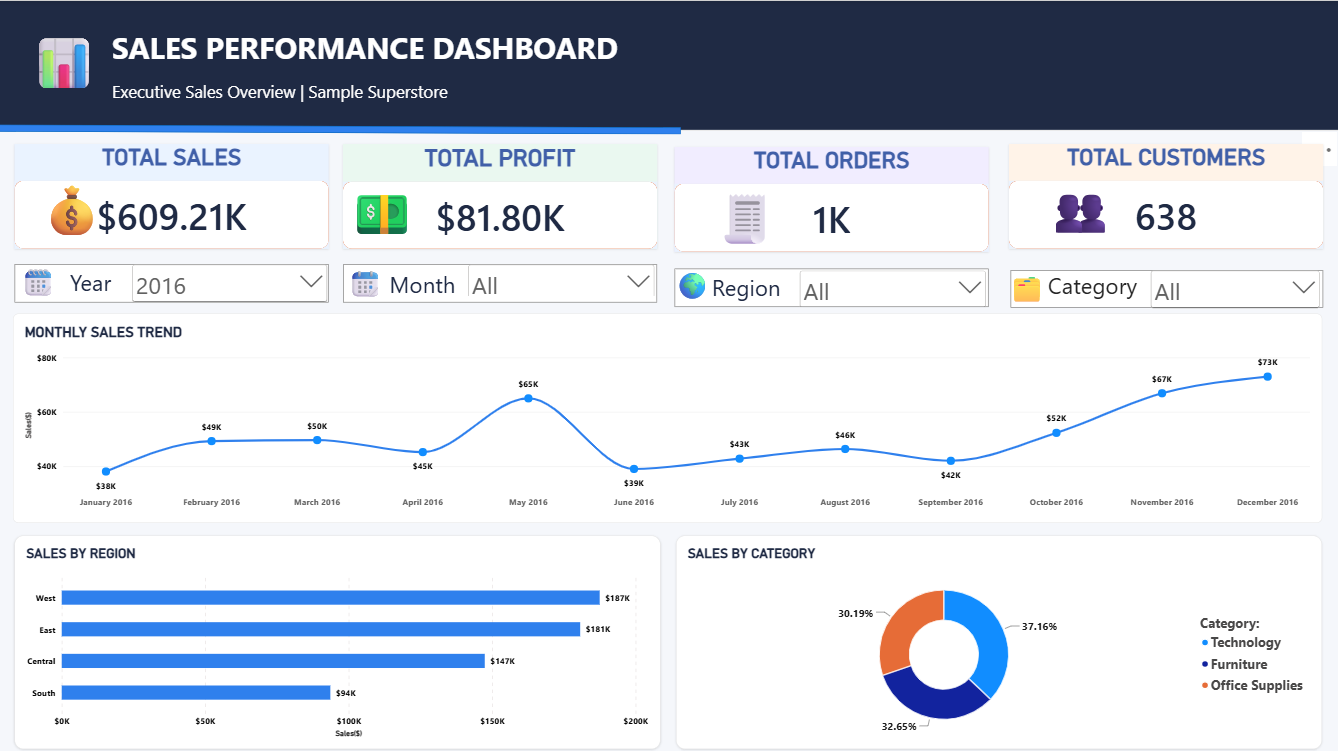

This screenshot's page, from the dashboard's own definition file:
{"tool":"powerbi","page":{"name":"Page 1","canvas":[1920,1080],"ordinal":0},"visuals":[{"type":"shape","box":[1450,386,448,54],"z":0},{"type":"shape","box":[968.4,384.2,450,55.3],"z":1000},{"type":"shape","box":[494.7,378.9,450,55.3],"z":2000},{"type":"shape","box":[23.7,378.9,450,55.3],"z":3000},{"type":"shape","box":[0,0,1920,186.1],"z":4000},{"type":"textbox","box":[93.1,38.2,866.1,109.8],"z":5000},{"type":"textbox","box":[163.2,113.2,528.9,123.7],"z":6000},{"type":"shape","box":[0,178.9,978.2,14.3],"z":7000},{"type":"cardVisual","title":"TOTAL SALES","fields":{"Data":["Sales_Data.Total Sales"]},"box":[23.7,205.3,450,150],"z":8000},{"type":"cardVisual","title":"TOTAL PROFIT","fields":{"Data":["Sales_Data.Total Profit"]},"box":[494.7,205.3,450,150],"z":9000},{"type":"cardVisual","title":"TOTAL ORDERS","fields":{"Data":["Sales_Data.Total Orders"]},"box":[968.4,210.5,450,150],"z":10000},{"type":"cardVisual","title":"TOTAL CUSTOMERS","fields":{"Data":["Sales_Data.Total Customers"]},"box":[1447.4,205.3,450,150],"z":11000},{"type":"textbox","box":[55.3,250,100,107.9],"z":12000},{"type":"textbox","box":[500,247.4,86.8,100],"z":13000},{"type":"textbox","box":[1023.7,260.5,102.6,100],"z":14000},{"type":"textbox","box":[1502.6,244.7,113.2,100],"z":15000},{"type":"textbox","box":[46,38,130,108],"z":16000},{"type":"slicer","title":"Year","fields":{"Values":["Sales_Data.Year"]},"box":[186.8,373.7,289.5,60.5],"z":17000},{"type":"slicer","title":"Region","fields":{"Values":["Sales_Data.Region"]},"box":[1142.9,381.7,276.8,57.3],"z":18000},{"type":"slicer","title":"Month","fields":{"Values":["Sales_Data.Month Name"]},"box":[668.1,374.6,276.8,50.1],"z":19000},{"type":"slicer","title":"Category","fields":{"Values":["Sales_Data.Category"]},"box":[1646,382,252,66],"z":20000},{"type":"textbox","box":[102.6,381.7,81.6,44.7],"z":21000},{"type":"textbox","box":[31.6,378.9,63.2,55.3],"z":22000},{"type":"textbox","box":[560.7,384.1,131.2,47.7],"z":23000},{"type":"textbox","box":[501,379.4,59.6,57.3],"z":24000},{"type":"textbox","box":[1023.6,388.9,131.2,47.7],"z":25000},{"type":"textbox","box":[968.7,381.7,66.8,57.3],"z":26000},{"type":"textbox","box":[1505,387.5,160,52.5],"z":27000},{"type":"textbox","box":[1447.5,387.5,70,75],"z":28000},{"type":"lineChart","title":"MONTHLY SALES TREND","fields":{"Category":["Sales_Data.YearMonth_Display"],"Y":["Sales_Data.Total Sales"]},"box":[22.5,450,1875,300],"z":29000},{"type":"clusteredBarChart","title":"SALES BY REGION","fields":{"Category":["Sales_Data.Region"],"Y":["Sales_Data.Total Sales"]},"box":[24,766,925,306],"z":30000},{"type":"donutChart","title":"SALES BY CATEGORY","fields":{"Category":["Sales_Data.Category"],"Y":["Sales_Data.Total Sales"]},"box":[972,766,925,306],"z":31000}]}

Visuals, with their boxes in screenshot pixels (x1, y1, x2, y2), scaled from the page's 1920x1080 canvas onto the 1338x751 screenshot:
shape: crop(1010, 268, 1323, 306)
shape: crop(675, 267, 988, 306)
shape: crop(345, 263, 658, 302)
shape: crop(17, 263, 330, 302)
shape: crop(0, 0, 1337, 129)
textbox: crop(65, 27, 668, 103)
textbox: crop(114, 79, 482, 165)
shape: crop(0, 124, 682, 134)
"TOTAL SALES" cardVisual: crop(17, 143, 330, 247)
"TOTAL PROFIT" cardVisual: crop(345, 143, 658, 247)
"TOTAL ORDERS" cardVisual: crop(675, 146, 988, 251)
"TOTAL CUSTOMERS" cardVisual: crop(1009, 143, 1322, 247)
textbox: crop(39, 174, 108, 249)
textbox: crop(348, 172, 409, 242)
textbox: crop(713, 181, 785, 251)
textbox: crop(1047, 170, 1126, 240)
textbox: crop(32, 26, 123, 102)
"Year" slicer: crop(130, 260, 332, 302)
"Region" slicer: crop(796, 265, 989, 305)
"Month" slicer: crop(466, 260, 658, 295)
"Category" slicer: crop(1147, 266, 1323, 312)
textbox: crop(71, 265, 128, 297)
textbox: crop(22, 263, 66, 302)
textbox: crop(391, 267, 482, 300)
textbox: crop(349, 264, 391, 304)
textbox: crop(713, 270, 805, 304)
textbox: crop(675, 265, 722, 305)
textbox: crop(1049, 269, 1160, 306)
textbox: crop(1009, 269, 1058, 322)
"MONTHLY SALES TREND" lineChart: crop(16, 313, 1322, 522)
"SALES BY REGION" clusteredBarChart: crop(17, 533, 661, 745)
"SALES BY CATEGORY" donutChart: crop(677, 533, 1322, 745)
